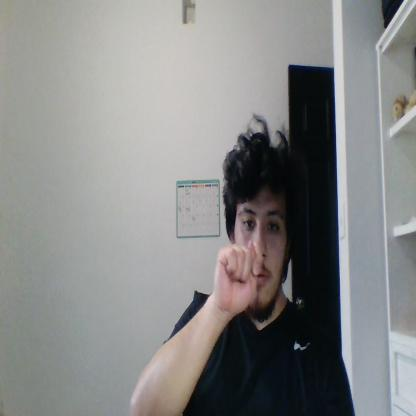T: (214, 237, 260, 315)
